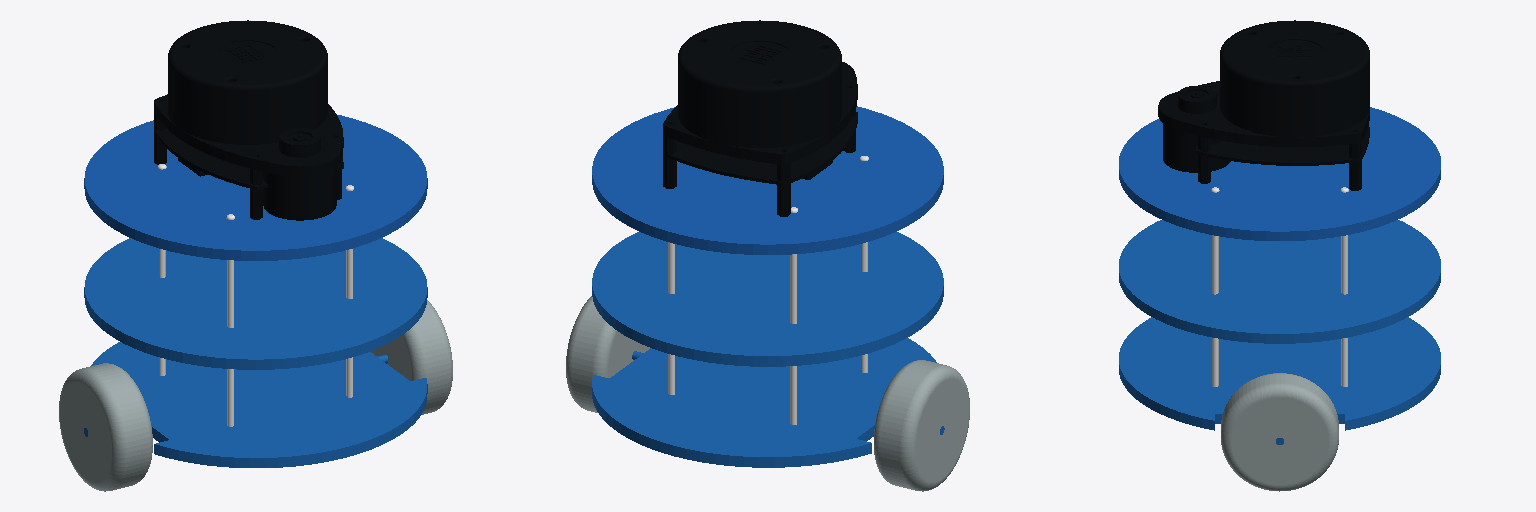
robot.urdf — onshape:
<robot name="onshape">
<link name="base_layer">
<visual>
<origin xyz="-0.0054085951405280288662 0.0063858766431100638661 -0.010733145442279119069" rpy="0 -0 0" />
<geometry>
<mesh filename="package://turtle_bot_description/turtle_bot/base_layer.stl"/>
</geometry>
<material name="base_layer_material">
<color rgba="0.14117647058823529216 0.43137254901960786491 0.7254901960784313486 1.0"/>
</material>
</visual>
<collision>
<origin xyz="-0.0054085951405280288662 0.0063858766431100638661 -0.010733145442279119069" rpy="0 -0 0" />
<geometry>
<mesh filename="package://turtle_bot_description/turtle_bot/base_layer.stl"/>
</geometry>
</collision>
<inertial>
<origin xyz="-0.005408595140528033203 0.0063858766431100647334 -0.013233145442279119555" rpy="0 0 0"/>
<mass value="0.076708445791032489613" />
<inertia ixx="0.00011517387353310793894" ixy="0"  ixz="0" iyy="8.9133149707990215016e-05" iyz="0" izz="0.00020398868575373323001" />
</inertial>
</link>

<link name="standoff">
<visual>
<origin xyz="0 0 0" rpy="3.141592653589793116 -0 0" />
<geometry>
<mesh filename="package://turtle_bot_description/turtle_bot/standoff.stl"/>
</geometry>
<material name="standoff_material">
<color rgba="0.91764705882352937127 0.91764705882352937127 0.91764705882352937127 1.0"/>
</material>
</visual>
<collision>
<origin xyz="0 0 0" rpy="3.141592653589793116 -0 0" />
<geometry>
<mesh filename="package://turtle_bot_description/turtle_bot/standoff.stl"/>
</geometry>
</collision>
<inertial>
<origin xyz="-1.2885779678748708114e-19 -9.2374474921235031905e-20 -0.053411456531411952153" rpy="0 0 0"/>
<mass value="0.0059281210142902648896" />
<inertia ixx="5.6380166401882050742e-06" ixy="0"  ixz="0" iyy="5.6380166401882050742e-06" iyz="0" izz="6.7280238291201044044e-09" />
</inertial>
</link>

<link name="mid_layer">
<visual>
<origin xyz="-0.030052038200428277809 0.030052038200428274339 -0.050000000000000002776" rpy="0 -0 0" />
<geometry>
<mesh filename="package://turtle_bot_description/turtle_bot/mid_layer.stl"/>
</geometry>
<material name="mid_layer_material">
<color rgba="0.14117647058823529216 0.43137254901960786491 0.7254901960784313486 1.0"/>
</material>
</visual>
<collision>
<origin xyz="-0.030052038200428277809 0.030052038200428274339 -0.050000000000000002776" rpy="0 -0 0" />
<geometry>
<mesh filename="package://turtle_bot_description/turtle_bot/mid_layer.stl"/>
</geometry>
</collision>
<inertial>
<origin xyz="-0.030052038200428277809 0.030052038200428277809 -0.0024999999999999952816" rpy="0 0 0"/>
<mass value="0.083011182331746063978" />
<inertia ixx="0.00011697427137894075811" ixy="0"  ixz="0" iyy="0.00011697427137894071745" iyz="0" izz="0.00023360266283149923186" />
</inertial>
</link>

<joint name="mid_joint_1" type="fixed">
<origin xyz="-3.4694469519536141888e-18 0 -0.052499999999999991118" rpy="3.141592653589793116 -0 0" />
<parent link="standoff" />
<child link="mid_layer" />
<axis xyz="0 0 1"/>
<limit effort="1" velocity="20" />
<joint_properties friction="0.0"/>
</joint>

<link name="top_layer">
<visual>
<origin xyz="-0.030052038200428277809 0.030052038200428274339 -0.10000000000000000555" rpy="0 -0 0" />
<geometry>
<mesh filename="package://turtle_bot_description/turtle_bot/top_layer.stl"/>
</geometry>
<material name="top_layer_material">
<color rgba="0.14117647058823529216 0.40784313725490195512 0.7254901960784313486 1.0"/>
</material>
</visual>
<collision>
<origin xyz="-0.030052038200428277809 0.030052038200428274339 -0.10000000000000000555" rpy="0 -0 0" />
<geometry>
<mesh filename="package://turtle_bot_description/turtle_bot/top_layer.stl"/>
</geometry>
</collision>
<inertial>
<origin xyz="-0.030052036065168211826 0.030052035531353181452 -0.0025000000000000022204" rpy="0 0 0"/>
<mass value="0.082705577310317260342" />
<inertia ixx="0.0001165988706191439816" ixy="-6.1809275542788895896e-12"  ixz="0" iyy="0.00011679231738675154018" iyz="0" izz="0.00023304658143376917774" />
</inertial>
</link>

<link name="lidar">
<visual>
<origin xyz="-0.027750000000000038525 -0.020000000000000007355 -0.024600000000000010747" rpy="-1.570796326794896558 -0 -1.7804189523299639519e-65" />
<geometry>
<mesh filename="package://turtle_bot_description/turtle_bot/lidar.stl"/>
</geometry>
<material name="lidar_material">
<color rgba="0.070588235294117646079 0.08627450980392156743 0.098039215686274508443 1.0"/>
</material>
</visual>
<collision>
<origin xyz="-0.027750000000000038525 -0.020000000000000007355 -0.024600000000000010747" rpy="-1.570796326794896558 -0 -1.7804189523299639519e-65" />
<geometry>
<mesh filename="package://turtle_bot_description/turtle_bot/lidar.stl"/>
</geometry>
</collision>
<inertial>
<origin xyz="-0.03523346988333641433 -0.019908073888912462823 -0.03526812773284024316" rpy="0 0 0"/>
<mass value="0.19842109046142825113" />
<inertia ixx="9.1685841634372709547e-05" ixy="1.1957791832927559532e-07"  ixz="-2.3594440914703952743e-05" iyy="0.00014324243606702940449" iyz="-4.6096994025815565616e-07" izz="0.00016373727901481947605" />
</inertial>
</link>

<joint name="lidar_base_1" type="fixed">
<origin xyz="-0.050052038200428278225 -0.0049479617995717289913 0" rpy="3.141592653589793116 -1.232595164407830946e-32 -1.570796326794896558" />
<parent link="top_layer" />
<child link="lidar" />
<axis xyz="0 0 1"/>
<limit effort="1" velocity="20" />
<joint_properties friction="0.0"/>
</joint>

<joint name="top_joint_1" type="fixed">
<origin xyz="-3.4694469519536141888e-18 0 -0.10499999999999999611" rpy="3.141592653589793116 -0 0" />
<parent link="standoff" />
<child link="top_layer" />
<axis xyz="0 0 1"/>
<limit effort="1" velocity="20" />
<joint_properties friction="0.0"/>
</joint>

<joint name="base_joint_1" type="fixed">
<origin xyz="0.024643443059900252412 -0.023666161557318210473 -0.015733145442279120041" rpy="3.141592653589793116 -0 0" />
<parent link="base_layer" />
<child link="standoff" />
<axis xyz="0 0 1"/>
<limit effort="1" velocity="20" />
<joint_properties friction="0.0"/>
</joint>

<link name="standoff_2">
<visual>
<origin xyz="0 0 0" rpy="3.141592653589793116 -0 0" />
<geometry>
<mesh filename="package://turtle_bot_description/turtle_bot/standoff.stl"/>
</geometry>
<material name="standoff_material">
<color rgba="0.91764705882352937127 0.91764705882352937127 0.91764705882352937127 1.0"/>
</material>
</visual>
<collision>
<origin xyz="0 0 0" rpy="3.141592653589793116 -0 0" />
<geometry>
<mesh filename="package://turtle_bot_description/turtle_bot/standoff.stl"/>
</geometry>
</collision>
<inertial>
<origin xyz="-1.2885779678748708114e-19 -9.2374474921235031905e-20 -0.053411456531411952153" rpy="0 0 0"/>
<mass value="0.0059281210142902648896" />
<inertia ixx="5.6380166401882050742e-06" ixy="0"  ixz="0" iyy="5.6380166401882050742e-06" iyz="0" izz="6.7280238291201044044e-09" />
</inertial>
</link>

<joint name="base_joint_2" type="fixed">
<origin xyz="-0.035460633340956310144 -0.023666161557318217412 -0.015733145442279120041" rpy="3.141592653589793116 -0 0" />
<parent link="base_layer" />
<child link="standoff_2" />
<axis xyz="0 0 1"/>
<limit effort="1" velocity="20" />
<joint_properties friction="0.0"/>
</joint>

<link name="standoff_3">
<visual>
<origin xyz="0 0 0" rpy="3.141592653589793116 -0 0" />
<geometry>
<mesh filename="package://turtle_bot_description/turtle_bot/standoff.stl"/>
</geometry>
<material name="standoff_material">
<color rgba="0.91764705882352937127 0.91764705882352937127 0.91764705882352937127 1.0"/>
</material>
</visual>
<collision>
<origin xyz="0 0 0" rpy="3.141592653589793116 -0 0" />
<geometry>
<mesh filename="package://turtle_bot_description/turtle_bot/standoff.stl"/>
</geometry>
</collision>
<inertial>
<origin xyz="-1.2885779678748708114e-19 -9.2374474921235031905e-20 -0.053411456531411952153" rpy="0 0 0"/>
<mass value="0.0059281210142902648896" />
<inertia ixx="5.6380166401882050742e-06" ixy="0"  ixz="0" iyy="5.6380166401882050742e-06" iyz="0" izz="6.7280238291201044044e-09" />
</inertial>
</link>

<joint name="base_joint_3" type="fixed">
<origin xyz="0.024643443059900252412 0.036437914843538331267 -0.015733145442279120041" rpy="3.141592653589793116 -0 0" />
<parent link="base_layer" />
<child link="standoff_3" />
<axis xyz="0 0 1"/>
<limit effort="1" velocity="20" />
<joint_properties friction="0.0"/>
</joint>

<link name="standoff_4">
<visual>
<origin xyz="0 0 0" rpy="3.141592653589793116 -0 0" />
<geometry>
<mesh filename="package://turtle_bot_description/turtle_bot/standoff.stl"/>
</geometry>
<material name="standoff_material">
<color rgba="0.91764705882352937127 0.91764705882352937127 0.91764705882352937127 1.0"/>
</material>
</visual>
<collision>
<origin xyz="0 0 0" rpy="3.141592653589793116 -0 0" />
<geometry>
<mesh filename="package://turtle_bot_description/turtle_bot/standoff.stl"/>
</geometry>
</collision>
<inertial>
<origin xyz="-1.2885779678748708114e-19 -9.2374474921235031905e-20 -0.053411456531411952153" rpy="0 0 0"/>
<mass value="0.0059281210142902648896" />
<inertia ixx="5.6380166401882050742e-06" ixy="0"  ixz="0" iyy="5.6380166401882050742e-06" iyz="0" izz="6.7280238291201044044e-09" />
</inertial>
</link>

<joint name="base_joint_4" type="fixed">
<origin xyz="-0.035460633340956282389 0.036437914843538338205 -0.015733145442279120041" rpy="3.141592653589793116 -0 0" />
<parent link="base_layer" />
<child link="standoff_4" />
<axis xyz="0 0 1"/>
<limit effort="1" velocity="20" />
<joint_properties friction="0.0"/>
</joint>

<link name="wheel">
<visual>
<origin xyz="1.7347234759768070944e-18 -1.7347234759768070944e-18 -0.0097931037703787721105" rpy="0 -0 -5.5511151231257839347e-17" />
<geometry>
<mesh filename="package://turtle_bot_description/turtle_bot/wheel.stl"/>
</geometry>
<material name="wheel_material">
<color rgba="0.62745098039215685404 0.6745098039215686736 0.67843137254901964006 1.0"/>
</material>
</visual>
<collision>
<origin xyz="1.7347234759768070944e-18 -1.7347234759768070944e-18 -0.0097931037703787721105" rpy="0 -0 -5.5511151231257839347e-17" />
<geometry>
<mesh filename="package://turtle_bot_description/turtle_bot/wheel.stl"/>
</geometry>
</collision>
<inertial>
<origin xyz="8.1697339154535336824e-19 -1.7354001317076551602e-18 -0.010000000000000007147" rpy="0 0 0"/>
<mass value="0.062953359098010322481" />
<inertia ixx="1.3557884731460577573e-05" ixy="-1.8807909613156600127e-37"  ixz="0" iyy="1.3557884731460572491e-05" iyz="0" izz="2.3145947892207558913e-05" />
</inertial>
</link>

<joint name="wheel_joint_1" type="continuous">
<origin xyz="0.080330040283809578394 0.0063858766431100629987 -0.013233145442279119555" rpy="-1.570796326794896558 1.2968984003411589967 -1.570796326794896558" />
<parent link="base_layer" />
<child link="wheel" />
<axis xyz="0 0 1"/>
<limit effort="1" velocity="20" />
<joint_properties friction="0.0"/>
</joint>

<link name="wheel_2">
<visual>
<origin xyz="0 0 -0.0097931037703787582327" rpy="0 -0 0" />
<geometry>
<mesh filename="package://turtle_bot_description/turtle_bot/wheel.stl"/>
</geometry>
<material name="wheel_material">
<color rgba="0.62745098039215685404 0.6745098039215686736 0.67843137254901964006 1.0"/>
</material>
</visual>
<collision>
<origin xyz="0 0 -0.0097931037703787582327" rpy="0 -0 0" />
<geometry>
<mesh filename="package://turtle_bot_description/turtle_bot/wheel.stl"/>
</geometry>
</collision>
<inertial>
<origin xyz="-9.1775008443145391876e-19 -6.7665573084812139498e-22 -0.0099999999999999932693" rpy="0 0 0"/>
<mass value="0.062953359098010322481" />
<inertia ixx="1.3557884731460580961e-05" ixy="0"  ixz="0" iyy="1.3557884731460579267e-05" iyz="0" izz="2.3145947892207558913e-05" />
</inertial>
</link>

<joint name="wheel_joint_2" type="continuous">
<origin xyz="-0.091147230564865622249 0.0063858766431100638661 -0.01323314544227911782" rpy="-0 -1.570796326794896558 0" />
<parent link="base_layer" />
<child link="wheel_2" />
<axis xyz="0 0 1"/>
<limit effort="1" velocity="20" />
<joint_properties friction="0.0"/>
</joint>


</robot>

--- What the picture shows (computed from the rendered views, not written in the file) ---
Views: 3 orthographic renders of the robot side by side, from view 1: azimuth 30°, elevation 25°; view 2: azimuth 150°, elevation 25°; view 3: azimuth 270°, elevation 25°.
Robot: onshape — 10 links, 9 joints (2 continuous, 7 fixed); root link base_layer; default pose: all joints at 0.
Visible links, largest first — view 1: mid_layer, lidar, top_layer, base_layer, wheel_2, wheel, standoff_2, standoff; view 2: mid_layer, top_layer, base_layer, lidar, wheel_2, wheel, standoff_4, standoff_3; view 3: mid_layer, lidar, top_layer, base_layer, wheel, standoff, standoff_3.
Boxes of the visible links, box(x1,y1,x2,y2) form: mid_layer: box(84, 238, 427, 369); lidar: box(154, 20, 343, 220); top_layer: box(84, 115, 427, 260); base_layer: box(84, 342, 427, 467); wheel_2: box(59, 363, 152, 491); wheel: box(370, 300, 452, 414); standoff_2: box(226, 214, 234, 426); standoff: box(345, 185, 353, 397); mid_layer: box(592, 232, 943, 366); top_layer: box(592, 106, 943, 254); base_layer: box(592, 338, 944, 467); lidar: box(663, 20, 857, 216); wheel_2: box(874, 360, 969, 491); wheel: box(566, 296, 649, 412); standoff_4: box(790, 207, 797, 424); standoff_3: box(668, 242, 674, 394); mid_layer: box(1119, 220, 1440, 343); lidar: box(1158, 20, 1369, 190); top_layer: box(1119, 107, 1440, 240); base_layer: box(1119, 317, 1440, 444); wheel: box(1221, 373, 1338, 491); standoff: box(1211, 187, 1219, 386); standoff_3: box(1340, 187, 1348, 386).
Bounding box of the posed robot: 0.1715 × 0.15 × 0.1877 m (x, y, z).
10 mesh visuals loaded from 6 distinct referenced files (6 binary STL).